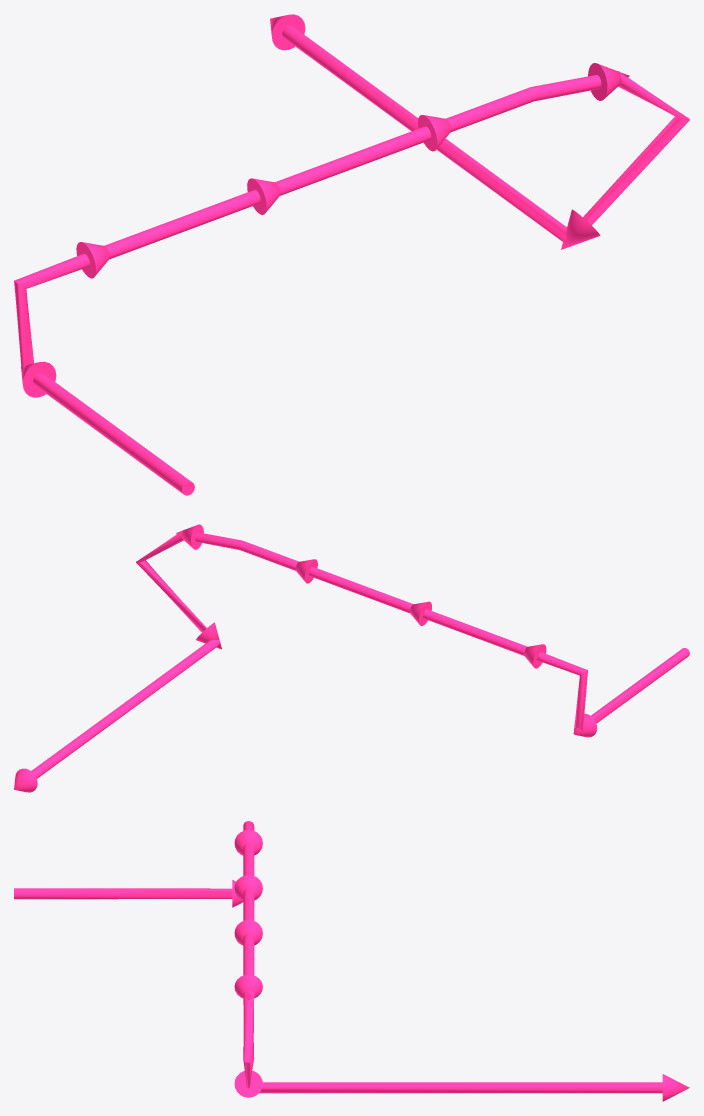
The model's file is chain_drive_assembly_flow.glb.
3 renders of one model, top to bottom at view 1: azimuth 30°, elevation 25°; view 2: azimuth 150°, elevation 25°; view 3: azimuth 270°, elevation 25°, orthographic. The views are drawn at different scales.
Visible parts, largest first — view 1: power; view 2: power; view 3: power.
Part boxes in pixels (x1,y1,x2,y2): power: [14, 14, 689, 495]; power: [14, 524, 689, 792]; power: [14, 821, 689, 1101].
Size of the model in its own units: 0.7328 by 0.192 by 0.864.
